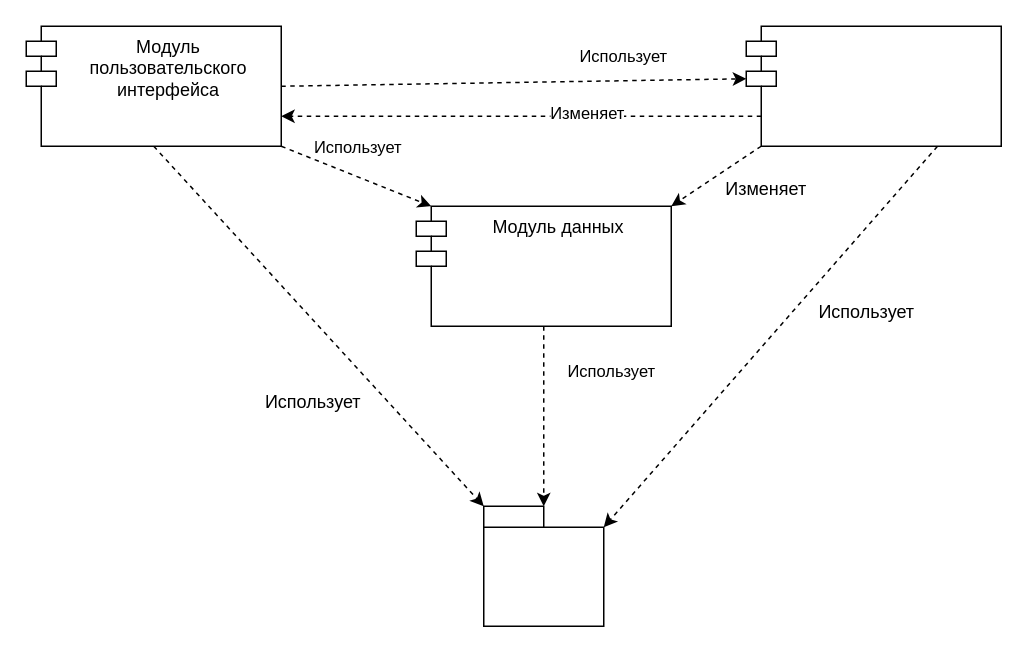
The diagram is 1028 pixels wide and 653 high, and some of its shapes have lost their labels. The box of each missing label's shape, as (x1, y1, x2, y2) in pixels:
Библиотеки: (482, 505, 604, 626)
Модуль логики программы: (745, 25, 1001, 146)
